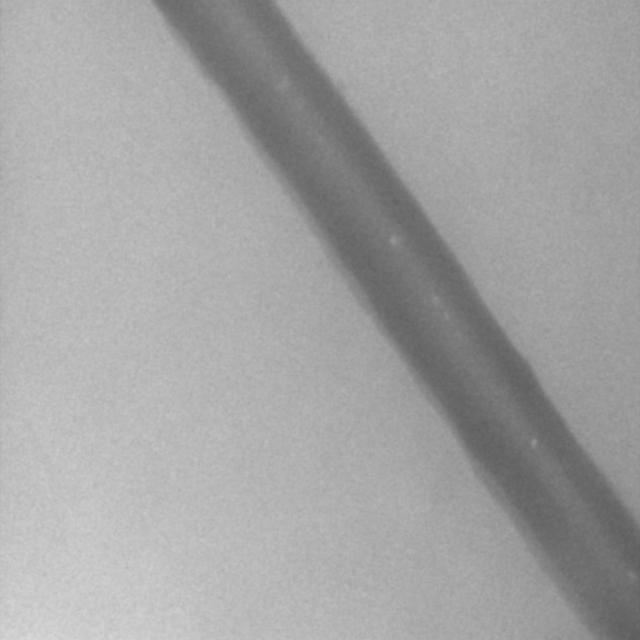air hole: (386, 231, 399, 249), (528, 436, 538, 450)
